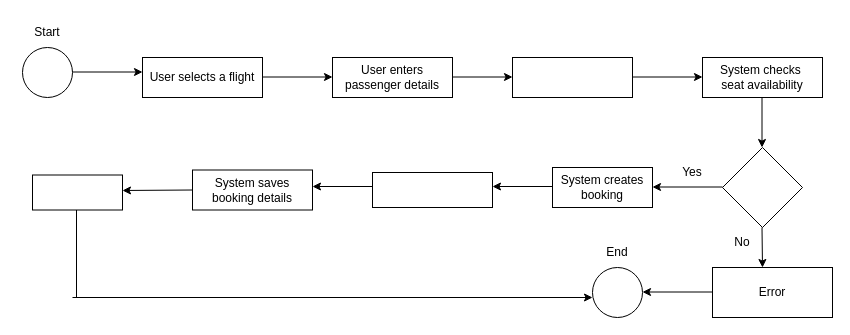
The diagram is 850 pixels wide and 335 high, and some of its shapes have lost their labels. Here are the shapes that lost their labels. From the top down, the centre of each, then its label:
At point (572, 77): "System validates passenger info.".
At point (77, 192): "System sends ticket via email".
At point (432, 190): "System assigns seat availability".
